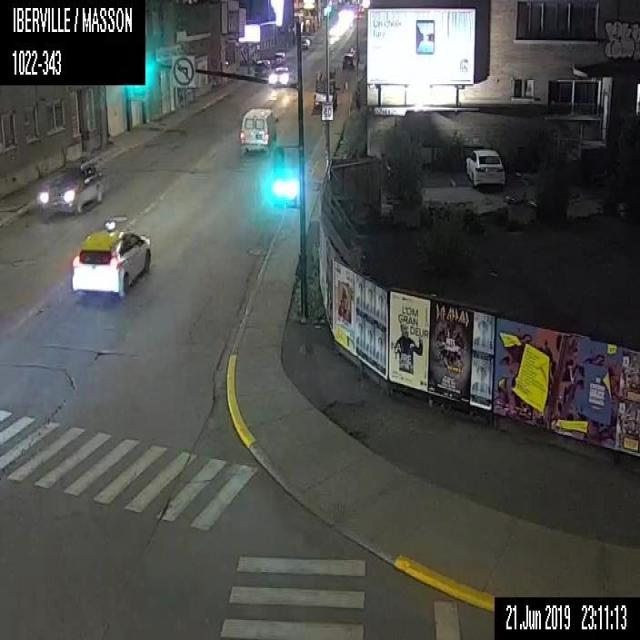vehicle: (70, 225, 151, 298), (35, 157, 103, 212), (238, 105, 278, 154), (466, 142, 506, 189), (312, 71, 337, 113), (269, 64, 293, 85), (253, 58, 272, 78), (339, 50, 355, 70), (272, 51, 285, 64), (300, 35, 310, 49)
